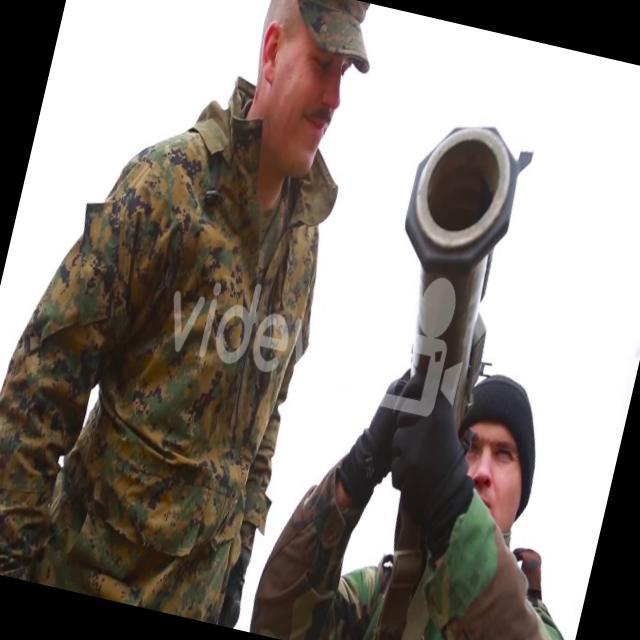rocket: (360, 114, 539, 433)
